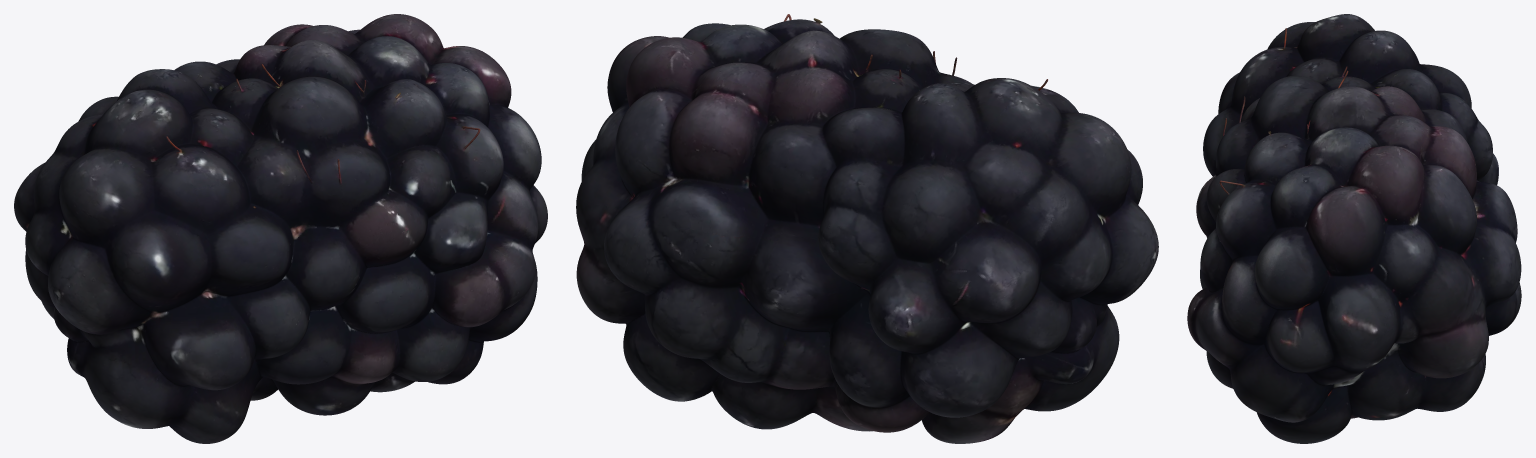
File: More.glb
The picture shows the model from 3 angles, left to right: view 1: azimuth 30°, elevation 25°; view 2: azimuth 150°, elevation 25°; view 3: azimuth 270°, elevation 25°; orthographic projection. The views are drawn at different scales.
Size of the model in its own units: 1.9 by 1.26 by 1.23.
1 material, 1 textured.
